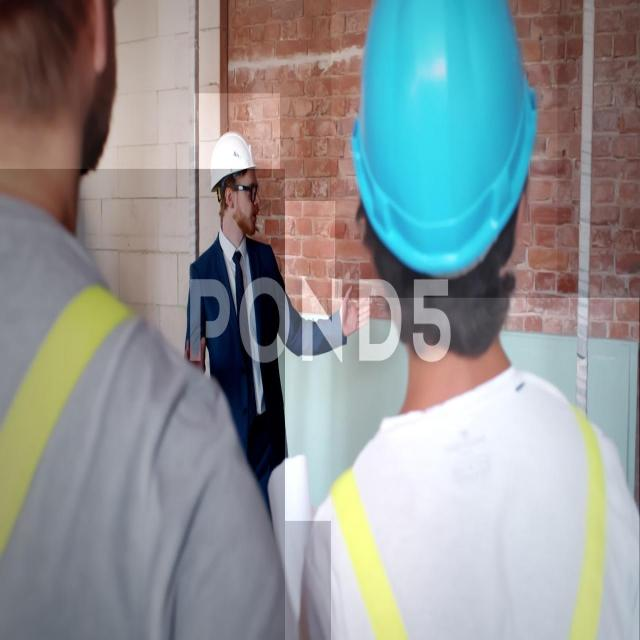Helmet: (0, 169, 285, 640), (331, 298, 639, 640), (331, 0, 557, 397), (179, 202, 335, 522), (194, 94, 280, 252)
